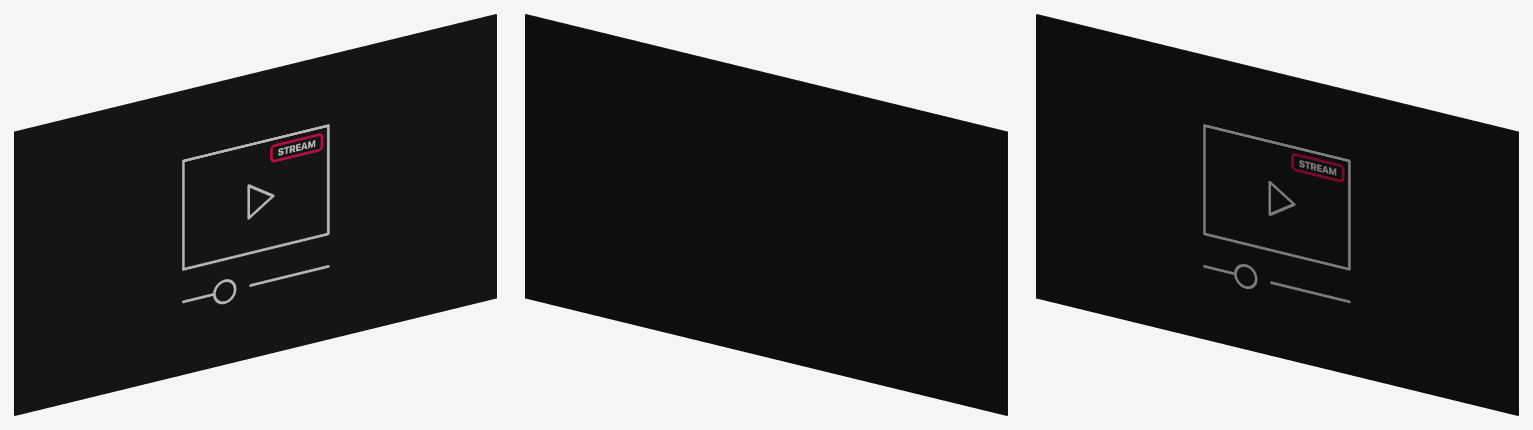
File: video_player.glb
3 renders of one model, left to right at view 1: azimuth 30°, elevation 25°; view 2: azimuth 150°, elevation 25°; view 3: azimuth 330°, elevation 25°, orthographic.
Visible parts, largest first — view 1: Stream_Preview; view 2: Stream_Preview; view 3: Stream_Preview.
Part boxes in pixels (x1=…): Stream_Preview: x1=14, y1=14, x2=496, y2=415; Stream_Preview: x1=525, y1=14, x2=1007, y2=415; Stream_Preview: x1=1036, y1=14, x2=1518, y2=415.
Bounding box in the file's own units: 2.97 × 1.67 × 0.01.
Materials: 1 (1 with a texture image).
